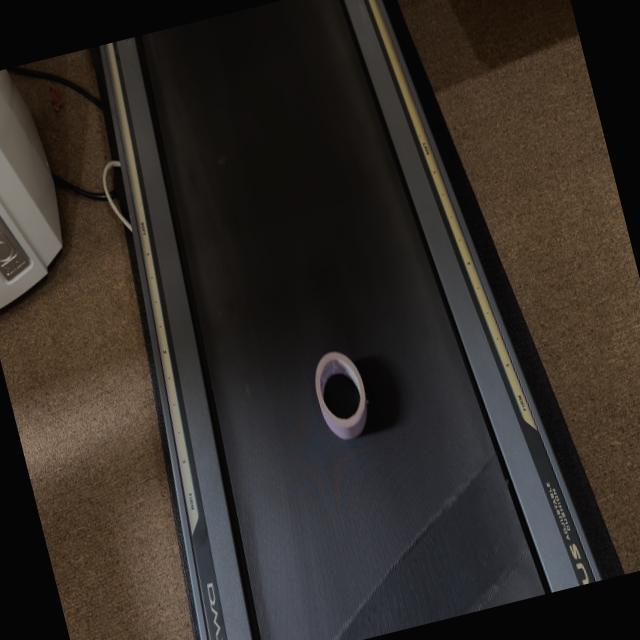Trash: (308, 344, 376, 444)
